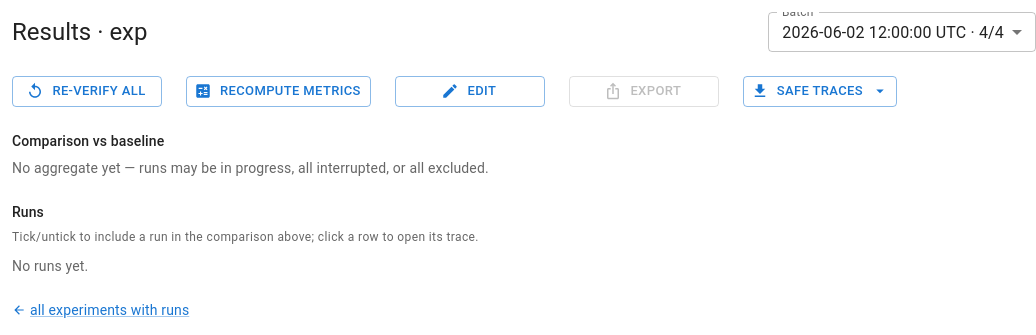
Scenario: ExperimentResults batch selector › renders both batch options and defaults to the newest, requesting its summary
Note: Opening the dropdown reveals both options.
Click the dropdown "2026-06-02 12:00:00 UTC · 4/4". click: [893, 32]
box: [782,22,1004,42]
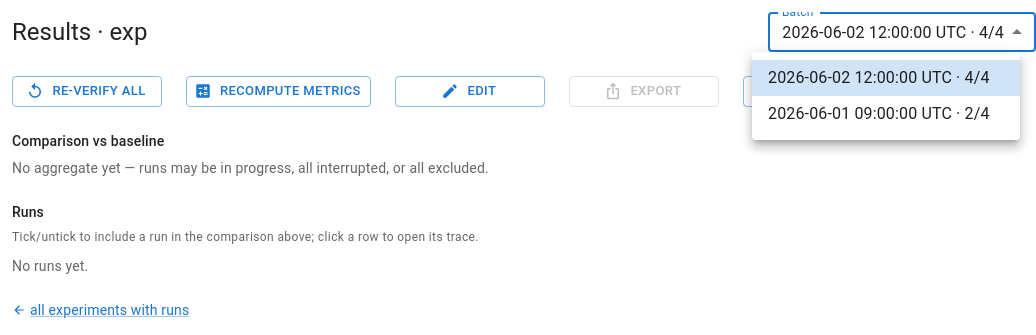
Result: the option "2026-06-02 12:00:00 UTC · 4/4" is shown at [752,60,1020,96]
Result: the option "2026-06-01 09:00:00 UTC · 2/4" is shown at [768,104,990,123]
